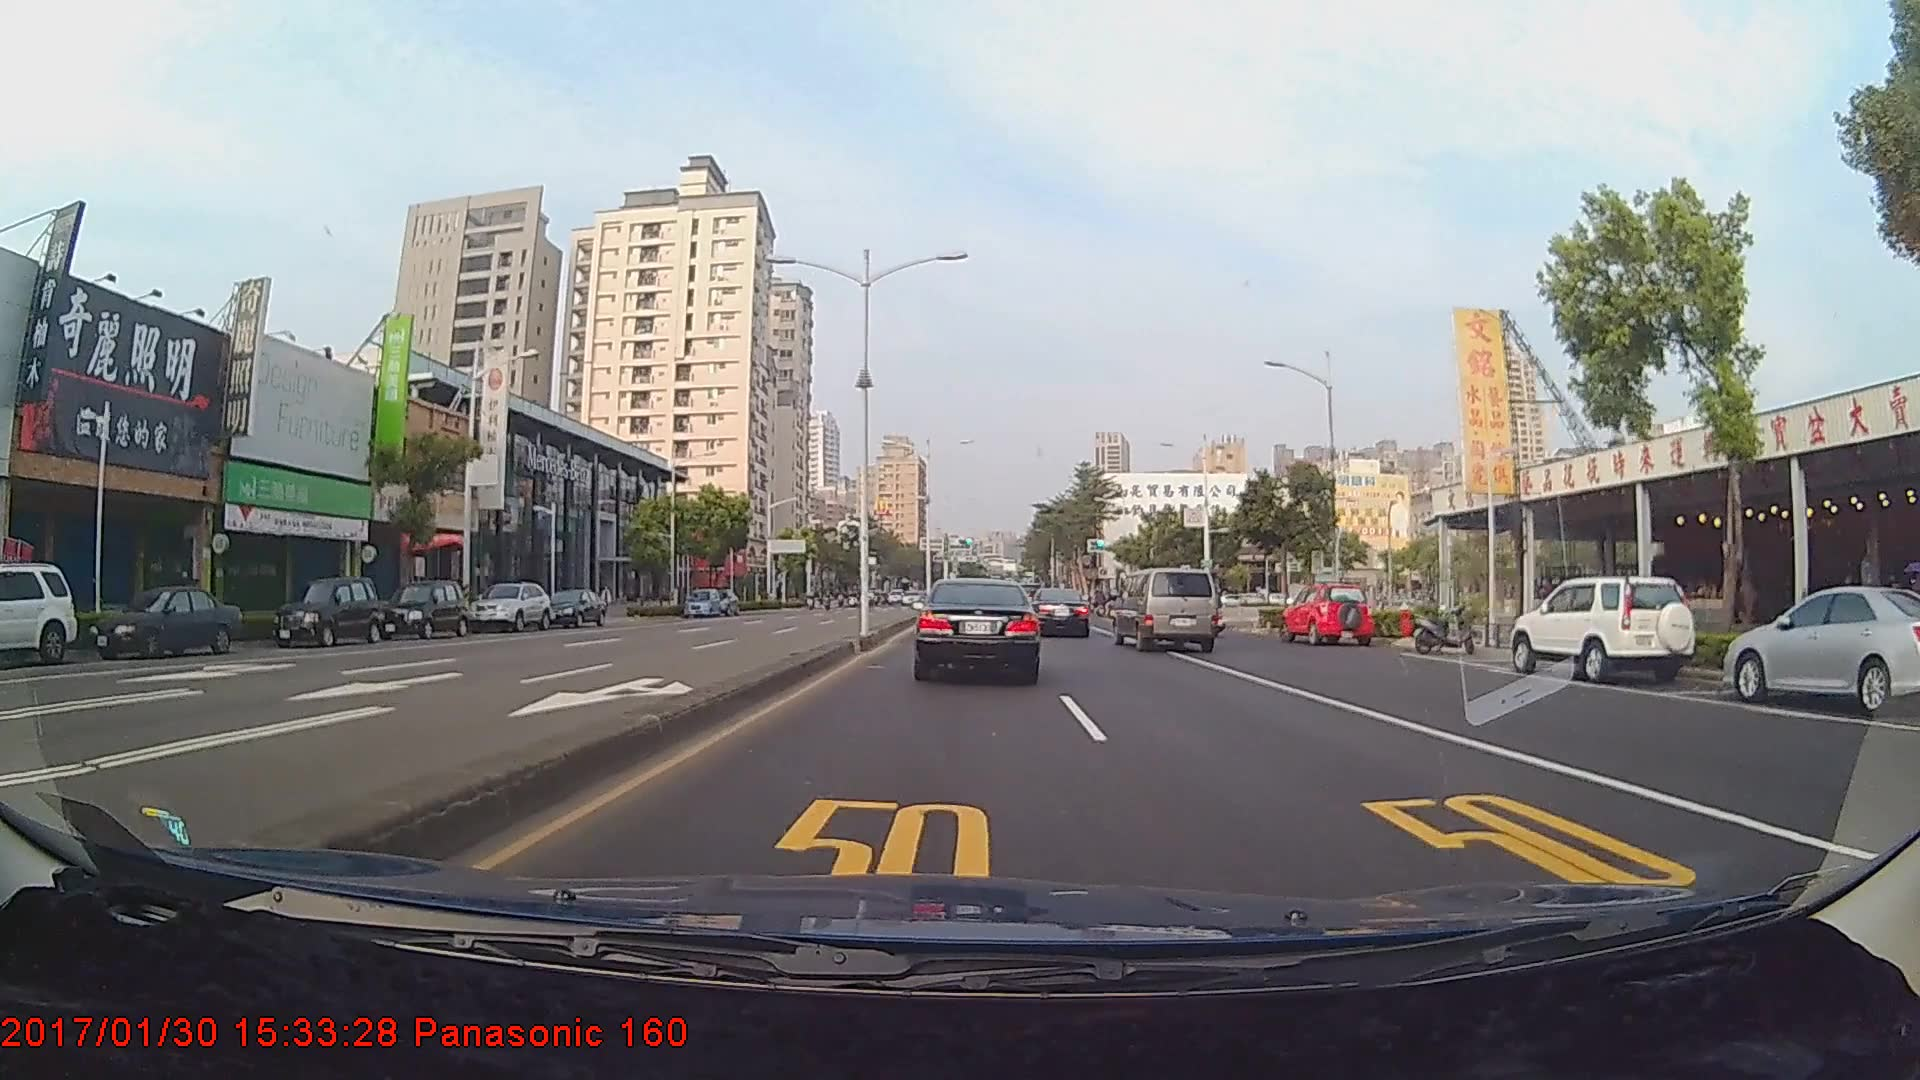vehicle: (1724, 583, 1917, 713), (1515, 571, 1692, 680), (913, 574, 1040, 683), (83, 585, 247, 661), (1113, 567, 1218, 651), (0, 560, 76, 669), (269, 576, 382, 647), (376, 579, 469, 641), (1283, 583, 1371, 647), (464, 582, 553, 634), (1027, 585, 1091, 640), (541, 589, 607, 628), (680, 585, 721, 615)
